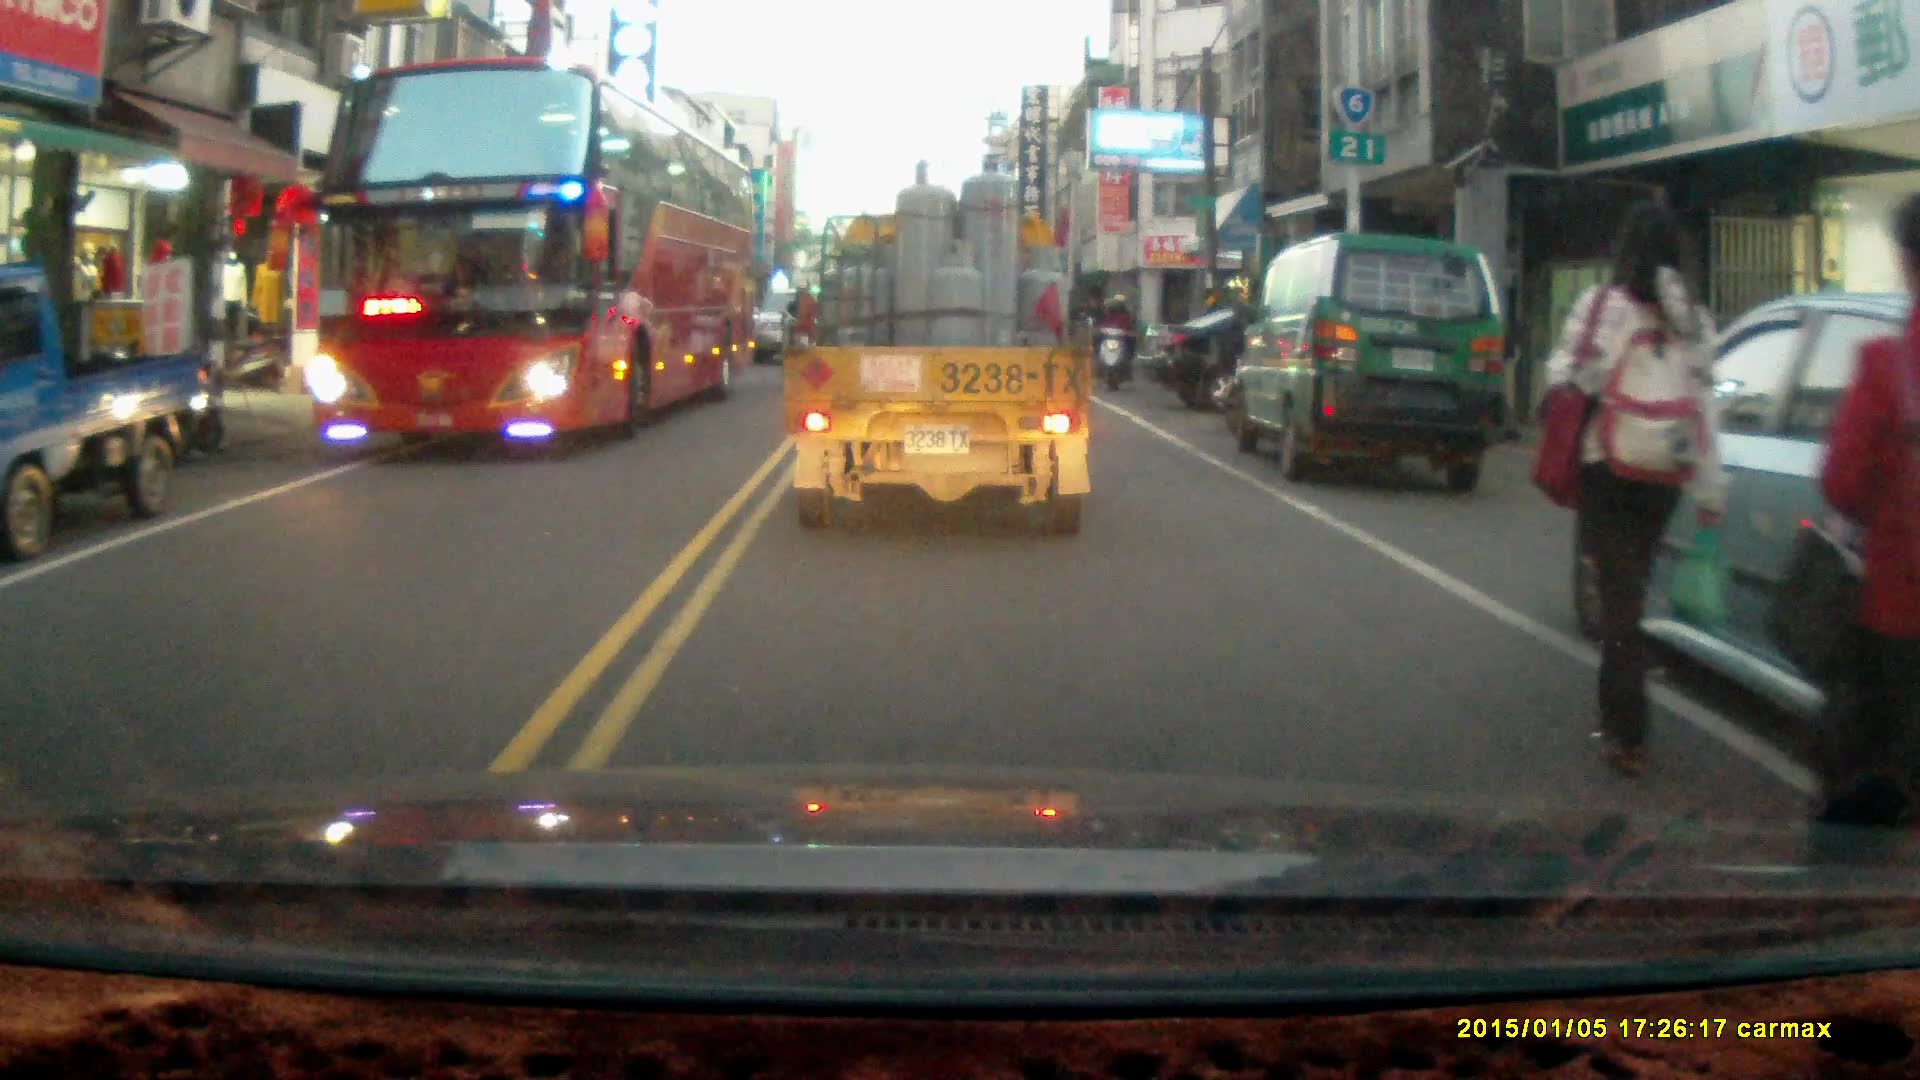pedestrian: (1537, 195, 1727, 777), (1818, 195, 1920, 852)
rider: (1089, 287, 1135, 386)
vehicle: (303, 59, 766, 455), (786, 152, 1096, 539), (1233, 231, 1505, 485), (1, 268, 213, 562), (1134, 303, 1435, 409)
